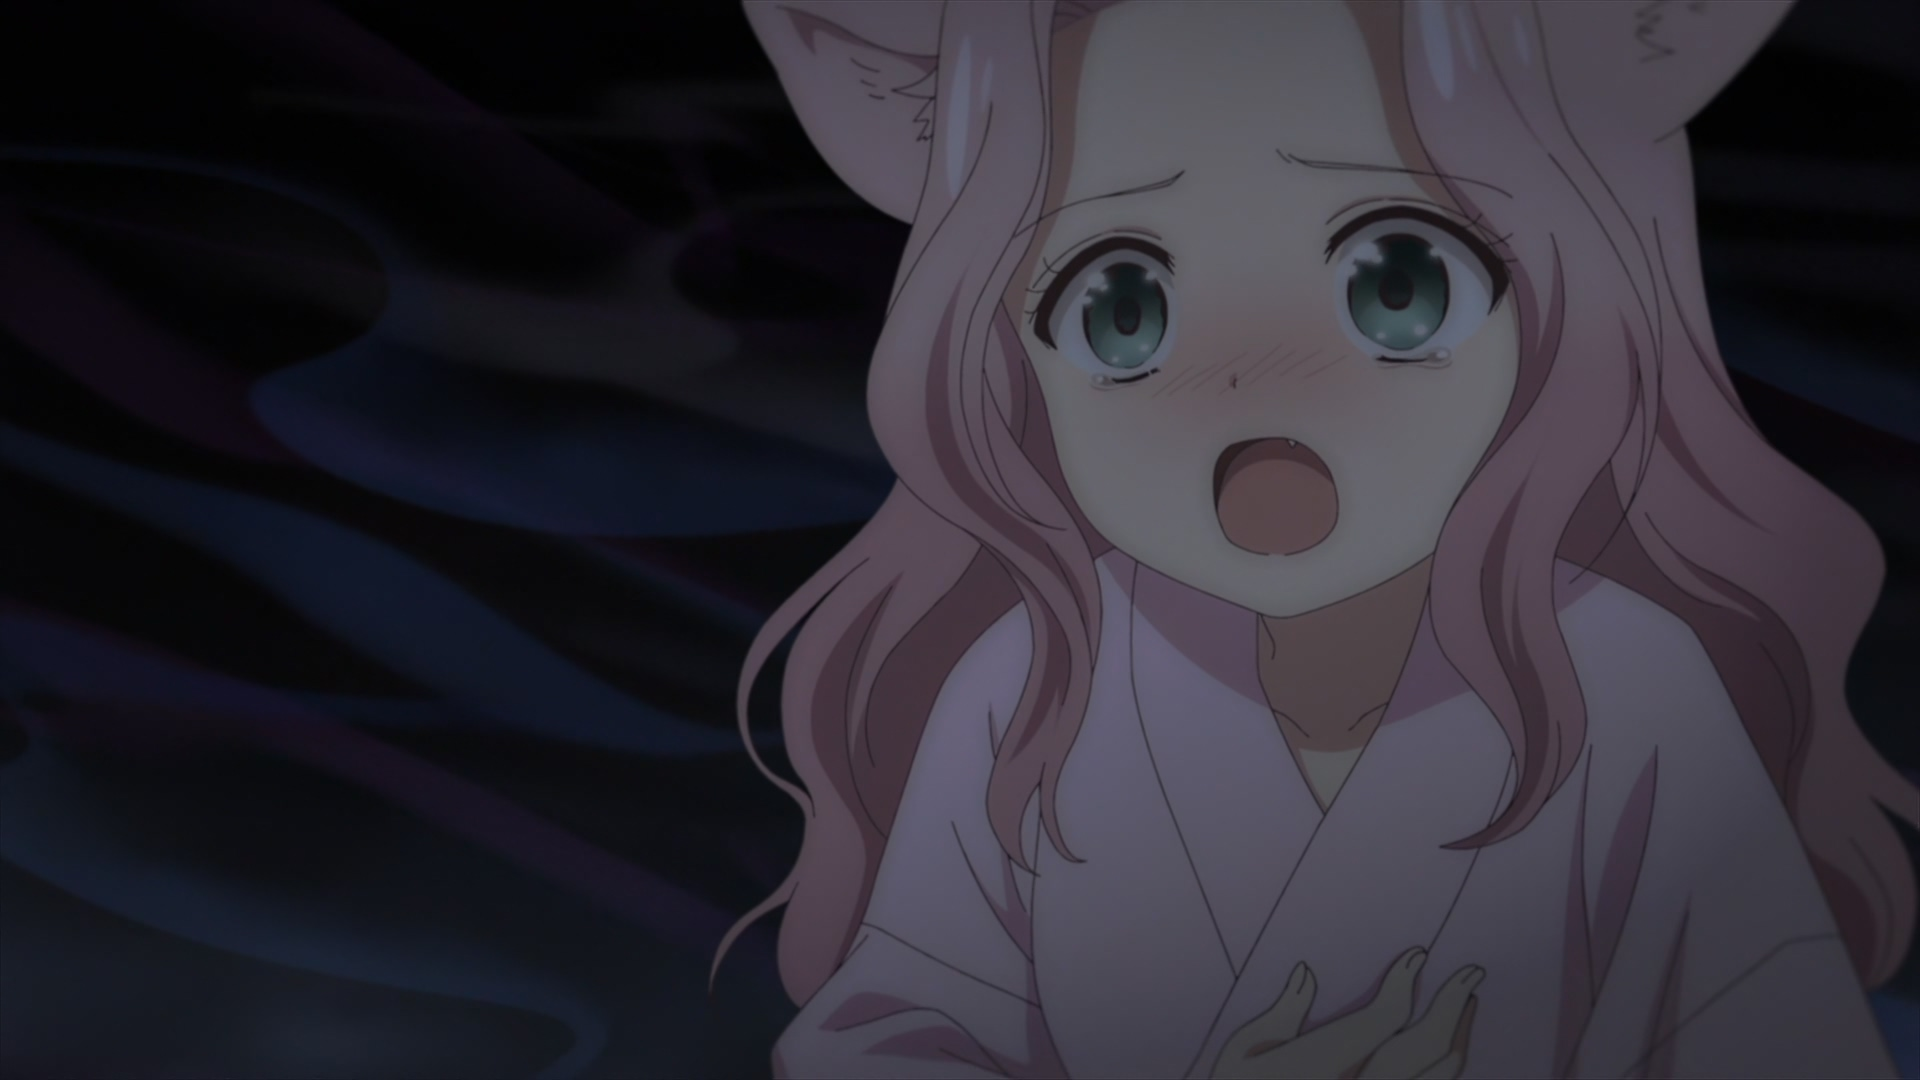莲: (705, 8, 1920, 1080)
